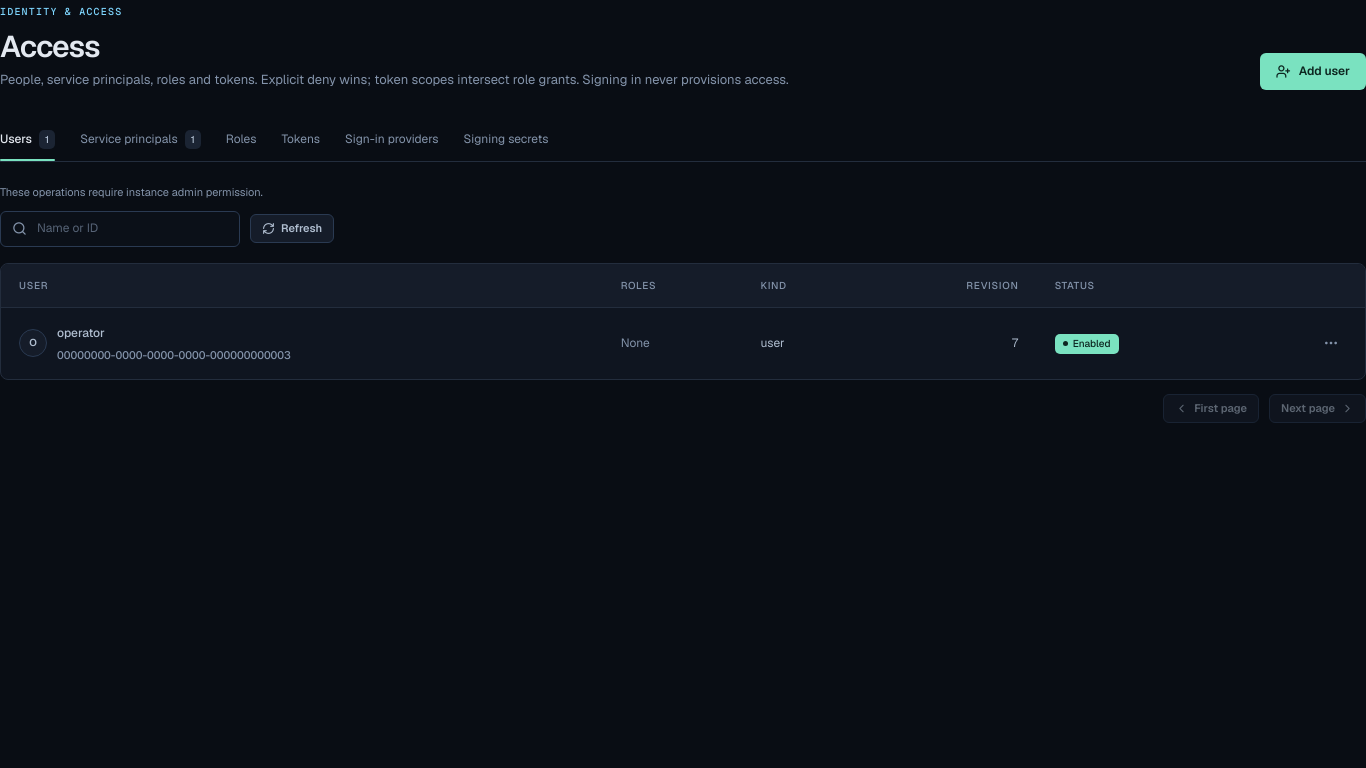
it: issues a token once without a replay key and clears the secret on request
Expected: the text "operator" is shown, 57,325 -> 105,341
Step 1. Click the tab "Tokens" → {"x": 301, "y": 139}, box 282,118 -> 320,160
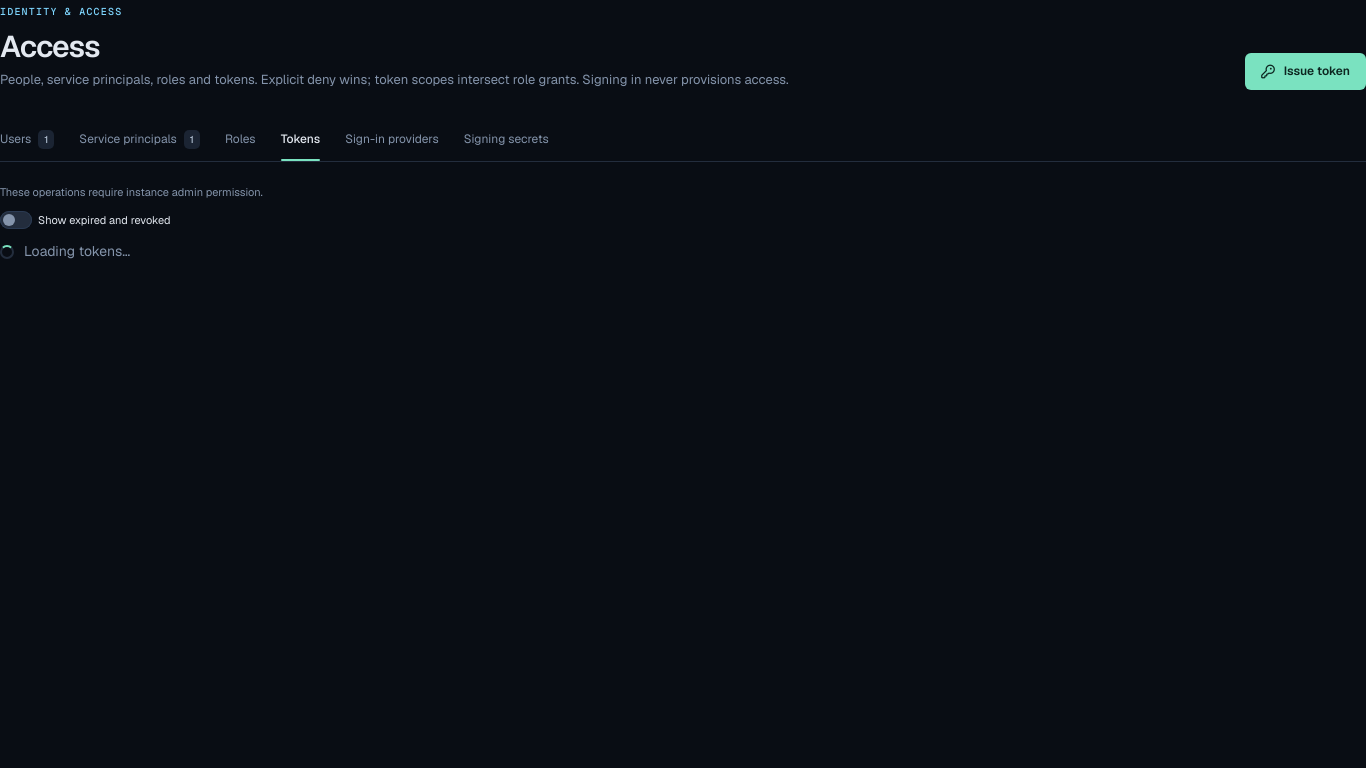
Step 2. Click the button "Issue token" → {"x": 1305, "y": 71}, box 1245,52 -> 1365,90
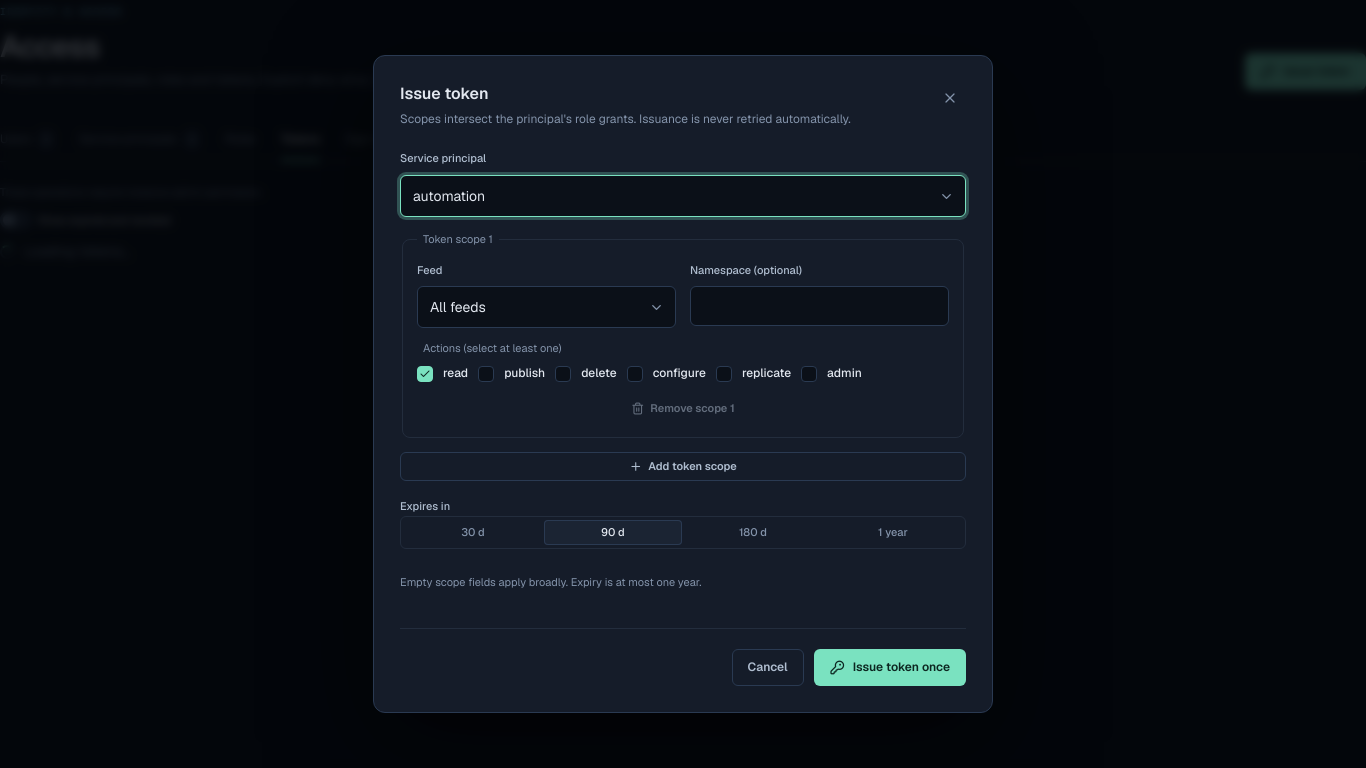
Step 3. Click the button "Issue token once" → {"x": 890, "y": 667}, box 814,648 -> 966,686
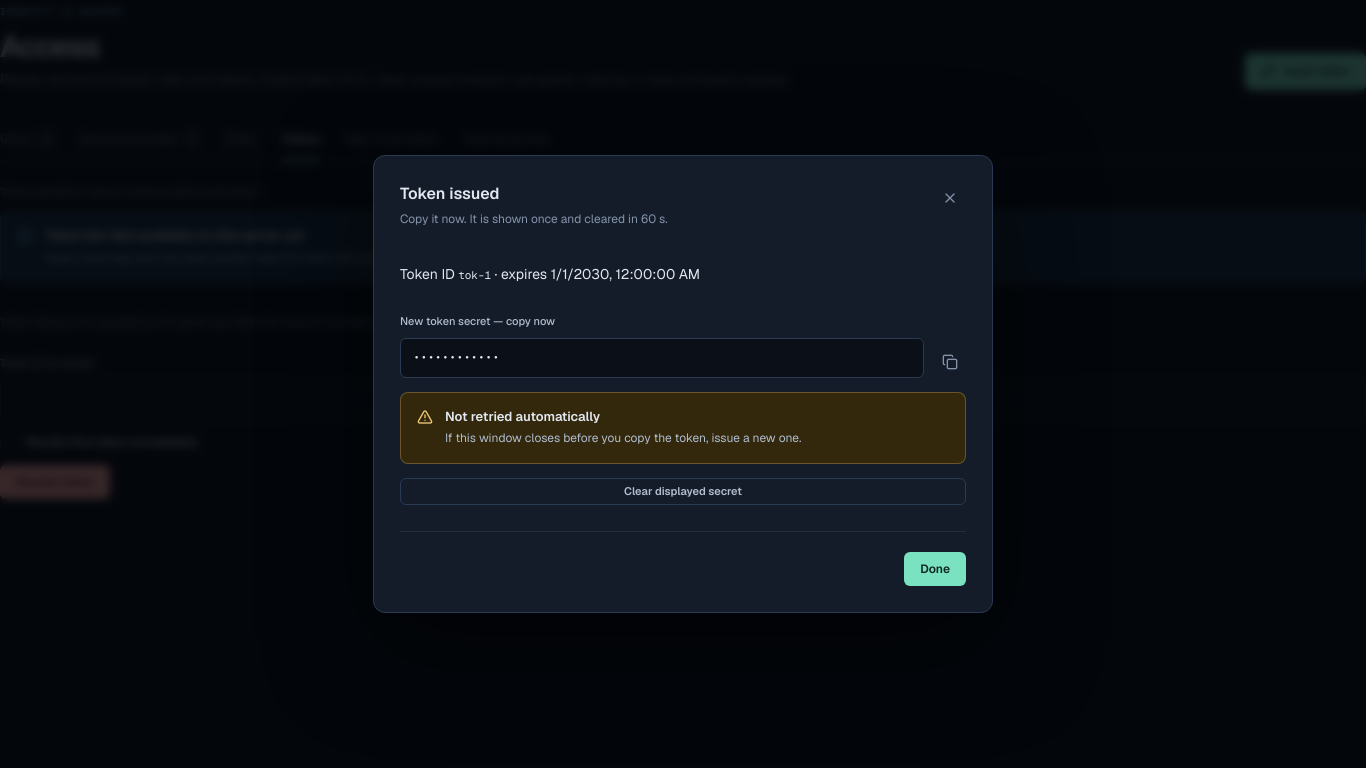
Expected: the password field labelled "New token secret — copy now" holds "s3cret-value", 400,338 -> 924,378
Step 4. Click the button "Clear displayed secret" → {"x": 683, "y": 491}, box 400,478 -> 966,504
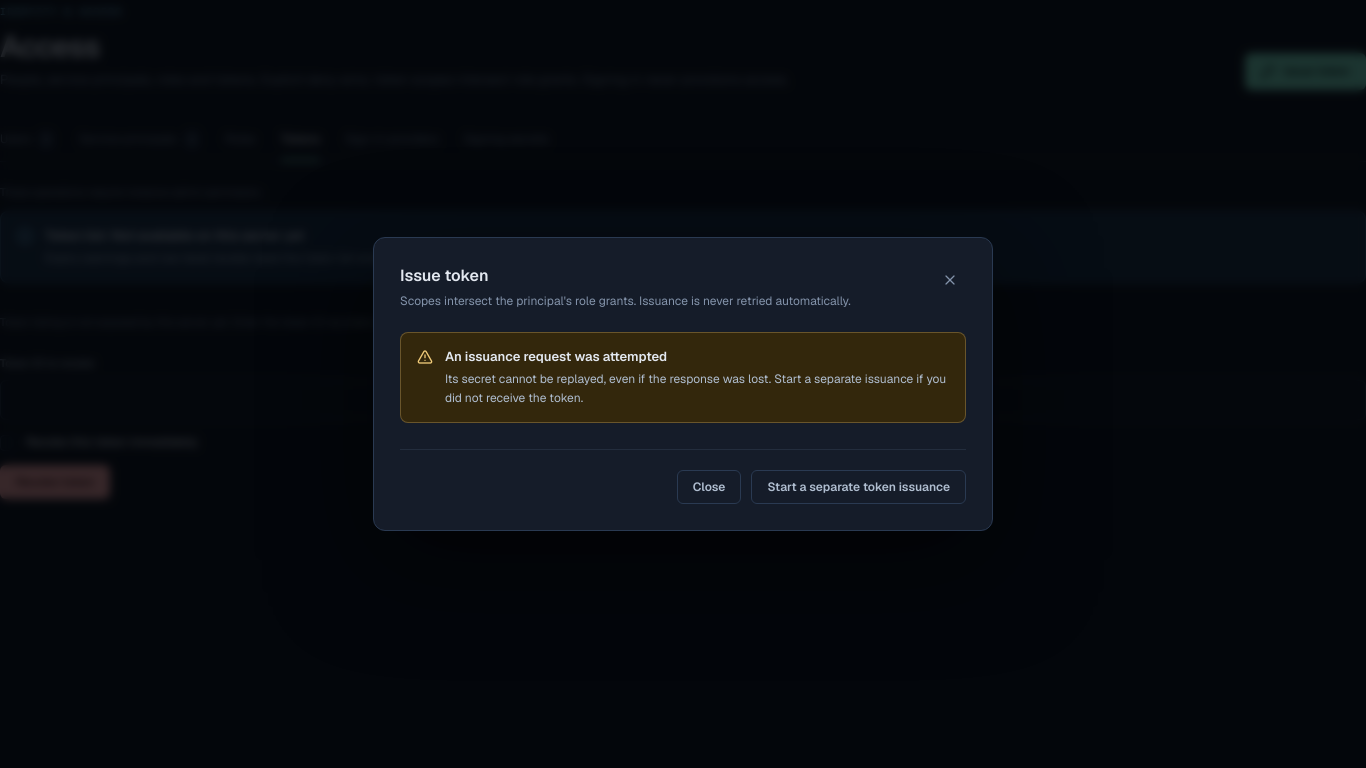
Expected: the label labelled "New token secret" is gone
